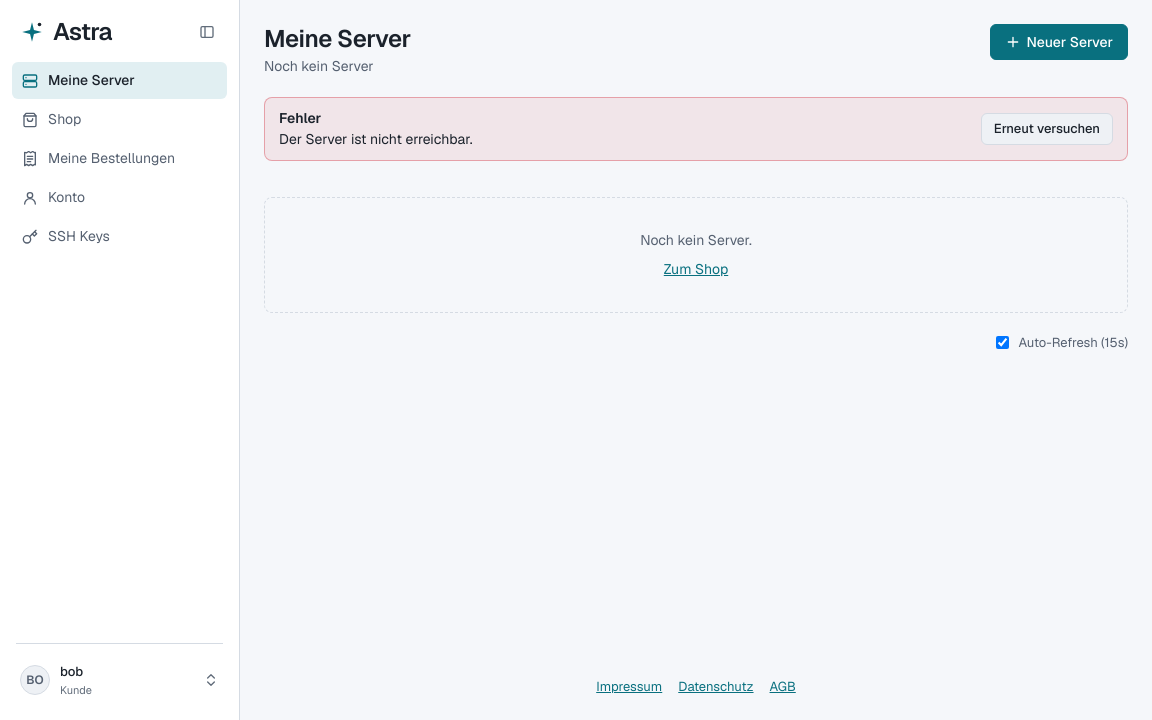
Test case: DashboardPage › zeigt bei einem Ladefehler eine Meldung und kann es erneut versuchen
Expected: the text "Der Server ist nicht erreichbar." is shown, top-left (279, 130), bottom-right (472, 148)
Click the button "Erneut versuchen": (1047, 129) top-left (981, 113), bottom-right (1113, 145)
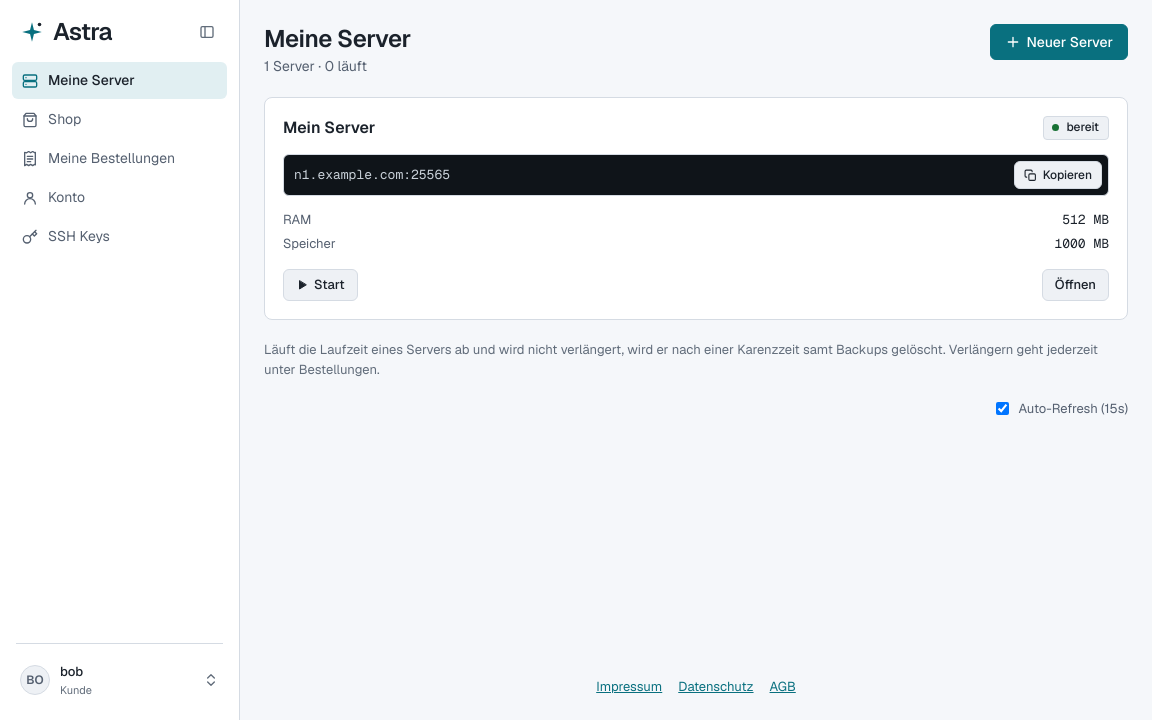
Now the link "Mein Server" is shown, box top-left (283, 116), bottom-right (375, 140)
